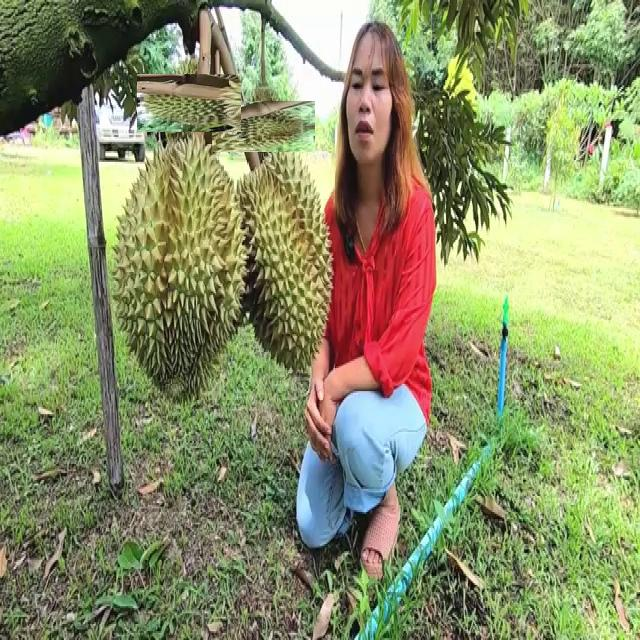durian: (109, 126, 248, 409), (230, 140, 334, 378), (149, 63, 230, 144), (224, 88, 302, 165)
